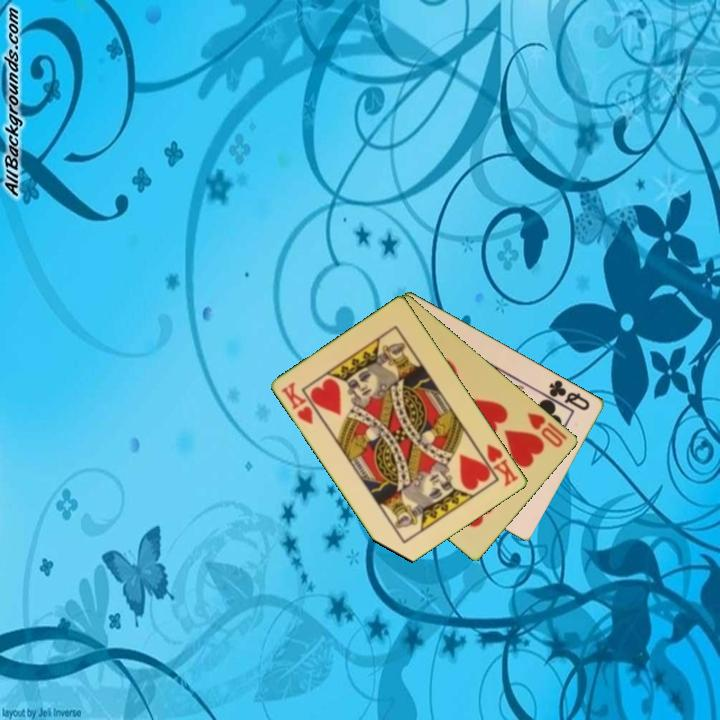10h: (524, 409, 571, 450)
Kh: (474, 440, 522, 490), (278, 378, 316, 427)
Qc: (545, 376, 593, 413)
